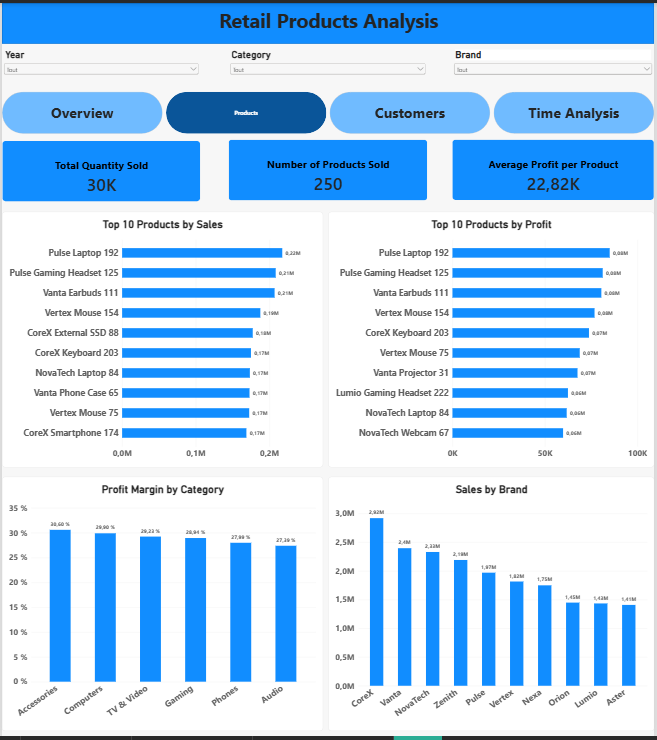

The dashboard page shown, as its layout file describes it:
{"tool":"powerbi","page":{"name":"Products","canvas":[1600,1800],"ordinal":1},"visuals":[{"type":"shape","box":[0,0,1600.4,100.3],"z":0},{"type":"cardVisual","fields":{"Data":["Measure table.Total Quantity Sold"]},"box":[0,337.2,487.4,150.3],"z":1000},{"type":"cardVisual","fields":{"Data":["Measure table.Number of Products Sold"]},"box":[555.6,335.4,489.2,152],"z":2000},{"type":"cardVisual","fields":{"Data":["Measure table.Average Profit per Product"]},"box":[1104.2,335.4,496.2,150.3],"z":3000},{"type":"clusteredBarChart","title":"Top 10 Products by Profit","fields":{"Category":["gold Dim_Products.Product_name"],"Y":["Measure table.Total Profit"]},"box":[800.2,511.9,800.2,627.2],"z":4000},{"type":"clusteredColumnChart","title":"Profit Margin by Category","fields":{"Category":["gold Dim_Products.Category"],"Y":["Measure table.Profit Margin %"]},"box":[0,1161.8,787.9,623.7],"z":5000},{"type":"slicer","fields":{"Values":["gold Dim_Date.Year"]},"box":[0,113.6,487.4,90.8],"z":6000},{"type":"slicer","fields":{"Values":["gold Dim_Products.Category"]},"box":[555.6,113.6,489.2,90.8],"z":7000},{"type":"slicer","fields":{"Values":["gold Dim_Products.Brand"]},"box":[1104.2,113.6,496.2,90.8],"z":8000},{"type":"textbox","box":[456,8.7,688.4,90.8],"z":9000},{"type":"pageNavigator","box":[0,218.4,1600.3,103.1],"z":10000},{"type":"clusteredBarChart","title":"Top 10 Products by Sales","fields":{"Y":["Measure table.Total Sales"],"Category":["gold Dim_Products.Product_name"]},"box":[0,511.9,787.9,627.2],"z":11000},{"type":"clusteredColumnChart","title":"Sales by Brand","fields":{"Category":["gold Dim_Products.Brand"],"Y":["Measure table.Total Sales"]},"box":[800.2,1161.8,800.2,623.7],"z":12000}]}

Visuals, with their boxes in screenshot pixels (x1, y1, x2, y2), scaled from the page's 1600x1800 canvas onto the 657x740 screenshot:
shape: detection(0, 0, 656, 41)
cardVisual - Measure table.Total Quantity Sold: detection(0, 139, 200, 200)
cardVisual - Measure table.Number of Products Sold: detection(228, 138, 429, 200)
cardVisual - Measure table.Average Profit per Product: detection(453, 138, 656, 200)
"Top 10 Products by Profit" clusteredBarChart: detection(329, 210, 656, 468)
"Profit Margin by Category" clusteredColumnChart: detection(0, 478, 324, 734)
slicer - gold Dim_Date.Year: detection(0, 47, 200, 84)
slicer - gold Dim_Products.Category: detection(228, 47, 429, 84)
slicer - gold Dim_Products.Brand: detection(453, 47, 656, 84)
textbox: detection(187, 4, 470, 41)
pageNavigator: detection(0, 90, 656, 132)
"Top 10 Products by Sales" clusteredBarChart: detection(0, 210, 324, 468)
"Sales by Brand" clusteredColumnChart: detection(329, 478, 656, 734)
